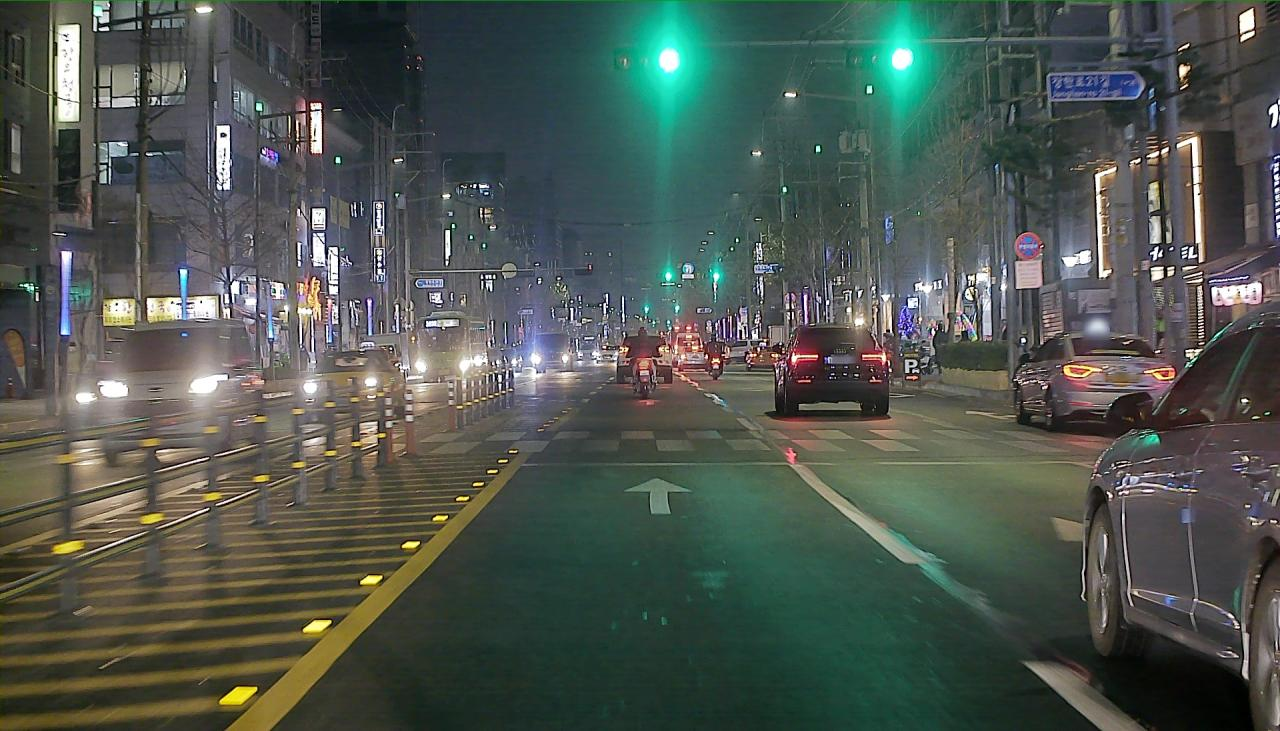Green Light: (654, 48, 682, 74), (890, 46, 915, 70)
